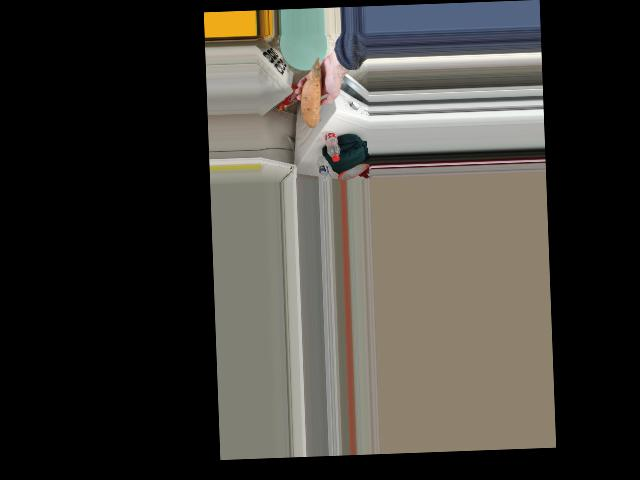sweet_potato: (298, 67, 323, 126)
